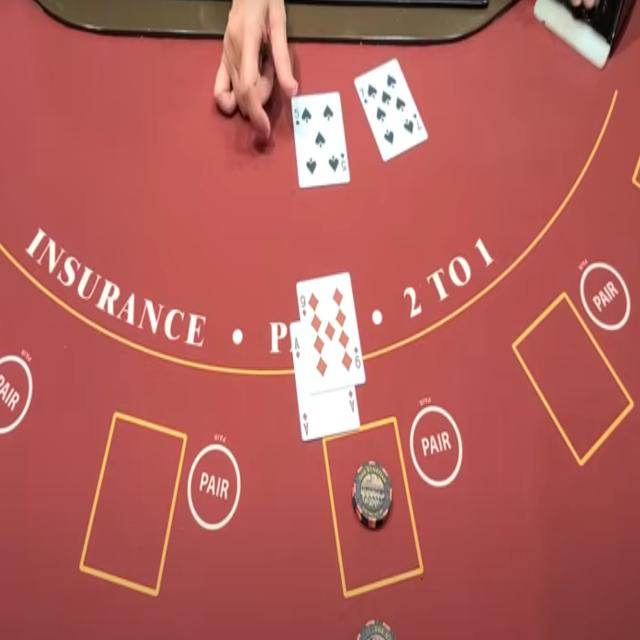5: (294, 104, 300, 120)
7: (358, 85, 366, 99)
9: (299, 293, 307, 309)
A: (293, 334, 300, 351)
